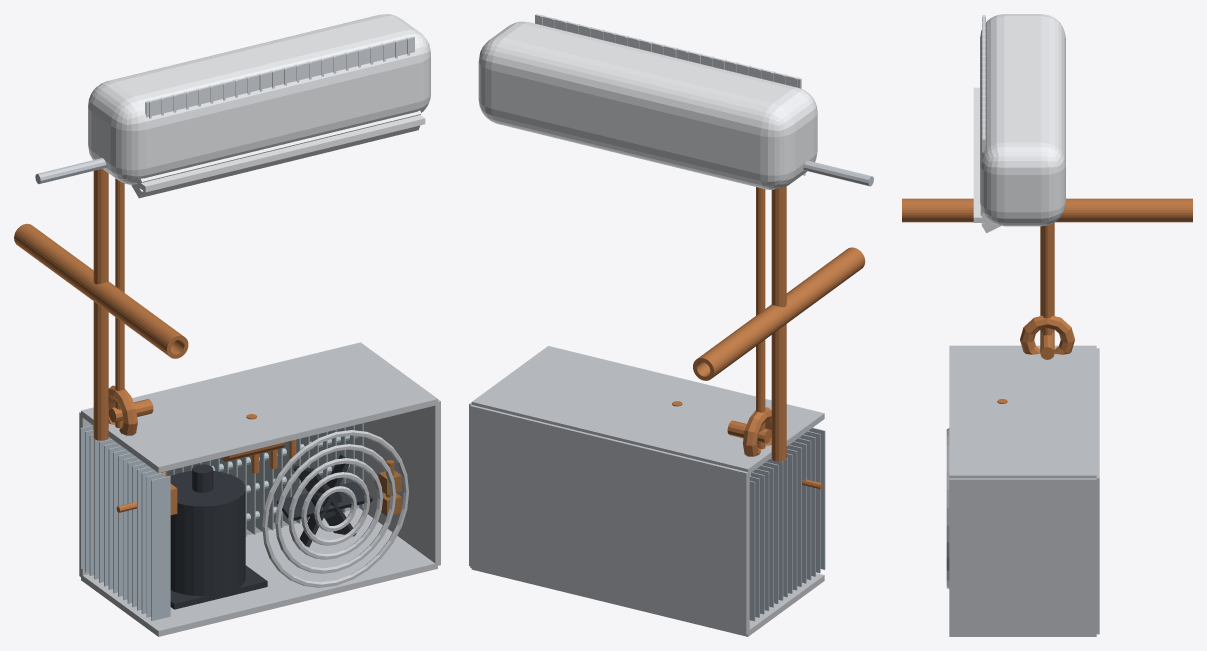
The model's file is air_conditioner.glb.
3 renders of one model, left to right at view 1: azimuth 30°, elevation 25°; view 2: azimuth 150°, elevation 25°; view 3: azimuth 270°, elevation 25°, orthographic. The views are drawn at different scales.
Parts seen in each view (by area): view 1: outdoor_casing, indoor_housing, condenser_coil, refrigerant_lines, compressor, air_filter, louver, condenser_fan, reversing_valve, drain_pan, service_valves; view 2: outdoor_casing, indoor_housing, refrigerant_lines, condenser_coil, air_filter, drain_pan; view 3: outdoor_casing, indoor_housing, refrigerant_lines, air_filter.
Part boxes in pixels (x1,y1,x2,y2): outdoor_casing: (79,342,440,636); indoor_housing: (88,14,430,192); condenser_coil: (80,423,363,620); refrigerant_lines: (14,169,188,440); compressor: (170,464,267,609); air_filter: (145,36,414,118); louver: (131,110,421,198); condenser_fan: (277,454,372,547); reversing_valve: (221,414,296,473); drain_pan: (35,158,106,183); service_valves: (378,460,401,515); outdoor_casing: (469,346,824,636); indoor_housing: (478,21,817,189); refrigerant_lines: (693,186,865,461); condenser_coil: (749,427,825,621); air_filter: (535,14,801,88); drain_pan: (803,160,873,186); outdoor_casing: (946,345,1099,636); indoor_housing: (973,14,1065,226); refrigerant_lines: (902,198,1192,359); air_filter: (982,15,985,153).
Bounding box in the file's own units: 2.05 × 2.66 × 1.42.
